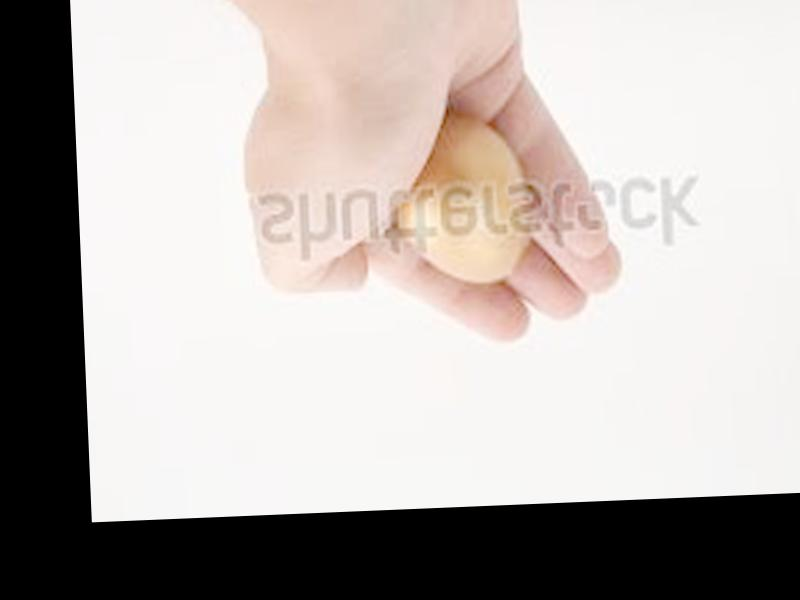Eggs: (398, 117, 530, 285)
